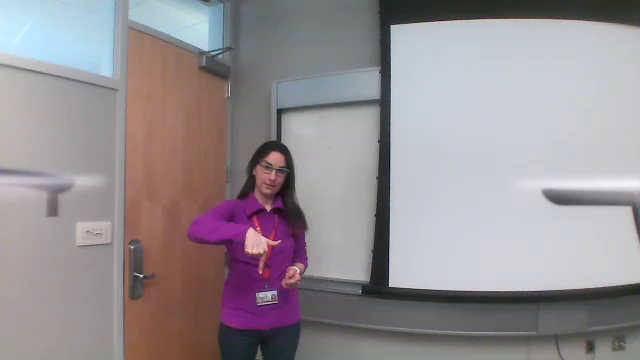down: (242, 227, 270, 277)
